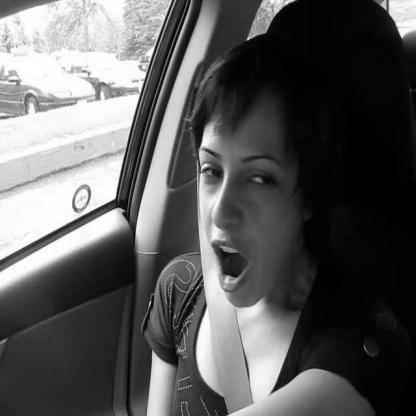seatbelt: (160, 4, 332, 416)
